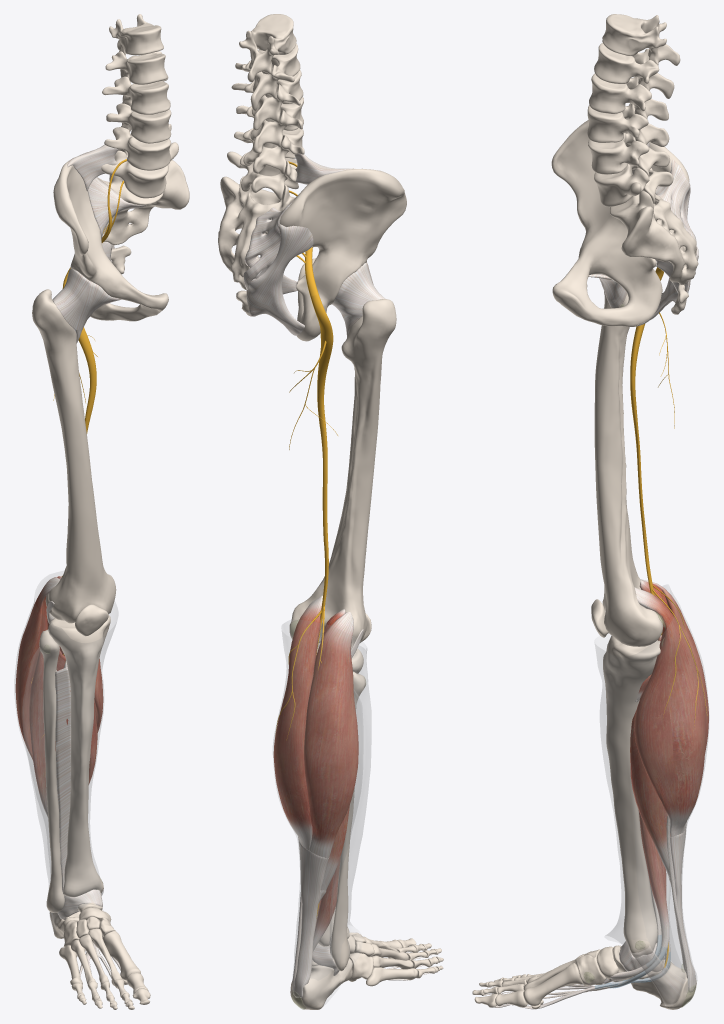
The model's file is muscles-deep-superficial-posterior-comp-leg.glb.
3 views of the same model, side by side, from view 1: azimuth 30°, elevation 25°; view 2: azimuth 150°, elevation 25°; view 3: azimuth 270°, elevation 25° (orthographic). The views are drawn at different scales.
Parts seen in each view (by area): view 1: Crural fascia.r, Femur.r, Tibia.r, Hip bone.r, Fibula.r, Sacrum, Posterior intermuscular septum of leg.r, Interosseous membrane of leg.r, Lateral head of gastrocnemius.r, Soleus muscle.r, Hip joint capsule.r, Lumbar vertebra (L5) (+16 smaller); view 2: Crural fascia.r, Femur.r, Hip bone.r, Lateral head of gastrocnemius.r, Medial head of gastrocnemius.r, Sacrum, Sacrotuberal ligament.r, Calcaneal tendon.r, Thoracic vertebra (T12), Fibula.r, Tibial nerve.r, Interossea / Posterior sacro-iliac ligament.r (+15 smaller); view 3: Crural fascia.r, Medial head of gastrocnemius.r, Femur.r, Hip bone.r, Tibia.r, Sacrum, Thoracic vertebra (T12), Soleus muscle.r, Lumbar vertebra (L1), Lumbar vertebra (L2), Lumbar vertebra (L3), Flexor digitorum longus.r (+17 smaller).
Boxes of the visible parts, x1=… form: Crural fascia.r: x1=14, y1=571, x2=117, y2=933; Femur.r: x1=32, y1=289, x2=116, y2=623; Tibia.r: x1=48, y1=615, x2=110, y2=897; Hip bone.r: x1=53, y1=160, x2=168, y2=321; Fibula.r: x1=39, y1=629, x2=64, y2=912; Sacrum: x1=98, y1=160, x2=189, y2=245; Posterior intermuscular septum of leg.r: x1=22, y1=648, x2=50, y2=876; Interosseous membrane of leg.r: x1=55, y1=667, x2=70, y2=892; Lateral head of gastrocnemius.r: x1=15, y1=577, x2=59, y2=759; Soleus muscle.r: x1=29, y1=650, x2=97, y2=816; Hip joint capsule.r: x1=52, y1=268, x2=121, y2=343; Lumbar vertebra (L5): x1=101, y1=142, x2=178, y2=198; Crural fascia.r: x1=273, y1=619, x2=371, y2=1005; Femur.r: x1=289, y1=299, x2=396, y2=649; Hip bone.r: x1=279, y1=168, x2=406, y2=341; Lateral head of gastrocnemius.r: x1=304, y1=612, x2=358, y2=858; Medial head of gastrocnemius.r: x1=273, y1=595, x2=322, y2=850; Sacrum: x1=218, y1=176, x2=294, y2=290; Sacrotuberal ligament.r: x1=246, y1=224, x2=313, y2=335; Calcaneal tendon.r: x1=293, y1=841, x2=328, y2=997; Thoracic vertebra (T12): x1=239, y1=14, x2=296, y2=82; Fibula.r: x1=330, y1=671, x2=365, y2=971; Tibial nerve.r: x1=275, y1=161, x2=328, y2=916; Interossea / Posterior sacro-iliac ligament.r: x1=243, y1=200, x2=293, y2=289; Crural fascia.r: x1=594, y1=585, x2=709, y2=992; Medial head of gastrocnemius.r: x1=634, y1=587, x2=706, y2=837; Femur.r: x1=594, y1=291, x2=663, y2=646; Hip bone.r: x1=551, y1=118, x2=689, y2=326; Tibia.r: x1=603, y1=635, x2=660, y2=957; Sacrum: x1=610, y1=168, x2=698, y2=284; Thoracic vertebra (T12): x1=602, y1=14, x2=680, y2=65; Soleus muscle.r: x1=630, y1=710, x2=670, y2=878; Lumbar vertebra (L1): x1=594, y1=43, x2=674, y2=98; Lumbar vertebra (L2): x1=589, y1=73, x2=668, y2=120; Lumbar vertebra (L3): x1=587, y1=103, x2=669, y2=146; Flexor digitorum longus.r: x1=482, y1=812, x2=669, y2=998.
Size of the model in its own units: 0.21 by 1.16 by 0.2436.
53 materials, 9 textured.
